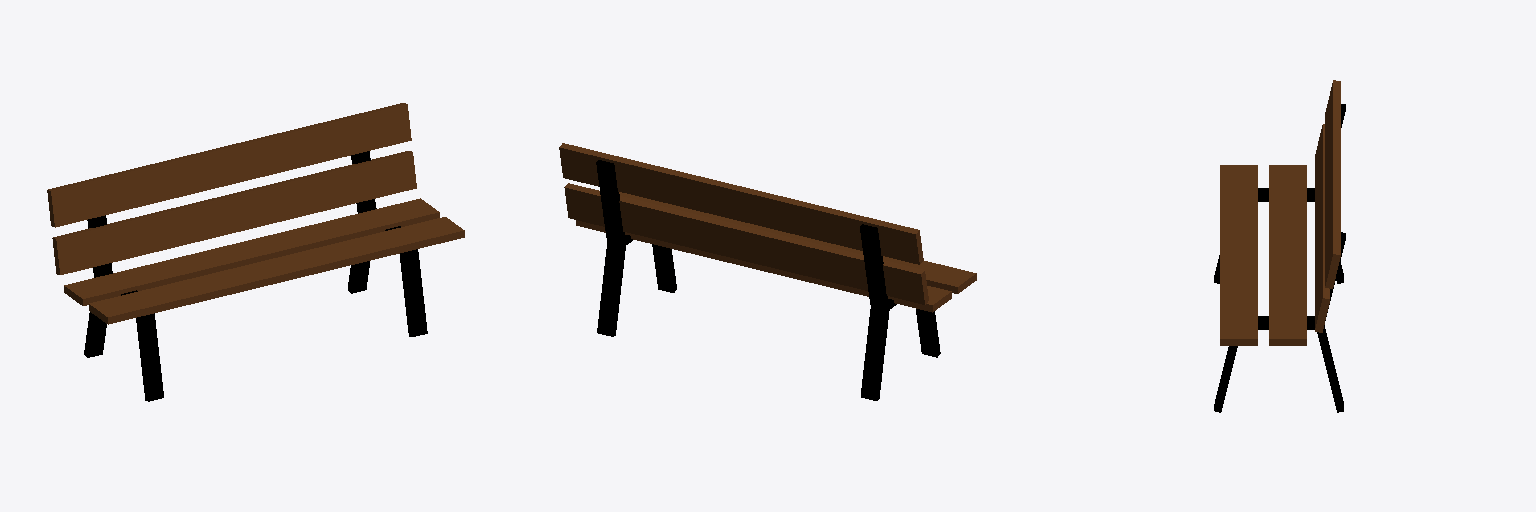
3 views of the same model, side by side, from view 1: azimuth 30°, elevation 25°; view 2: azimuth 150°, elevation 25°; view 3: azimuth 270°, elevation 25° (orthographic).
Visible parts, largest first — view 1: Box002, Box006; view 2: Box002, Box006; view 3: Box002, Box006.
Part boxes in pixels (x1,y1,x2,y2): Box002: (47,103,464,324); Box006: (84,151,427,401); Box002: (559,143,976,312); Box006: (596,160,940,400); Box002: (1220,80,1340,345); Box006: (1214,104,1345,412).
Bounding box in the file's own units: 2.42 × 1.15 × 0.7694.
1 materials, 1 textured.